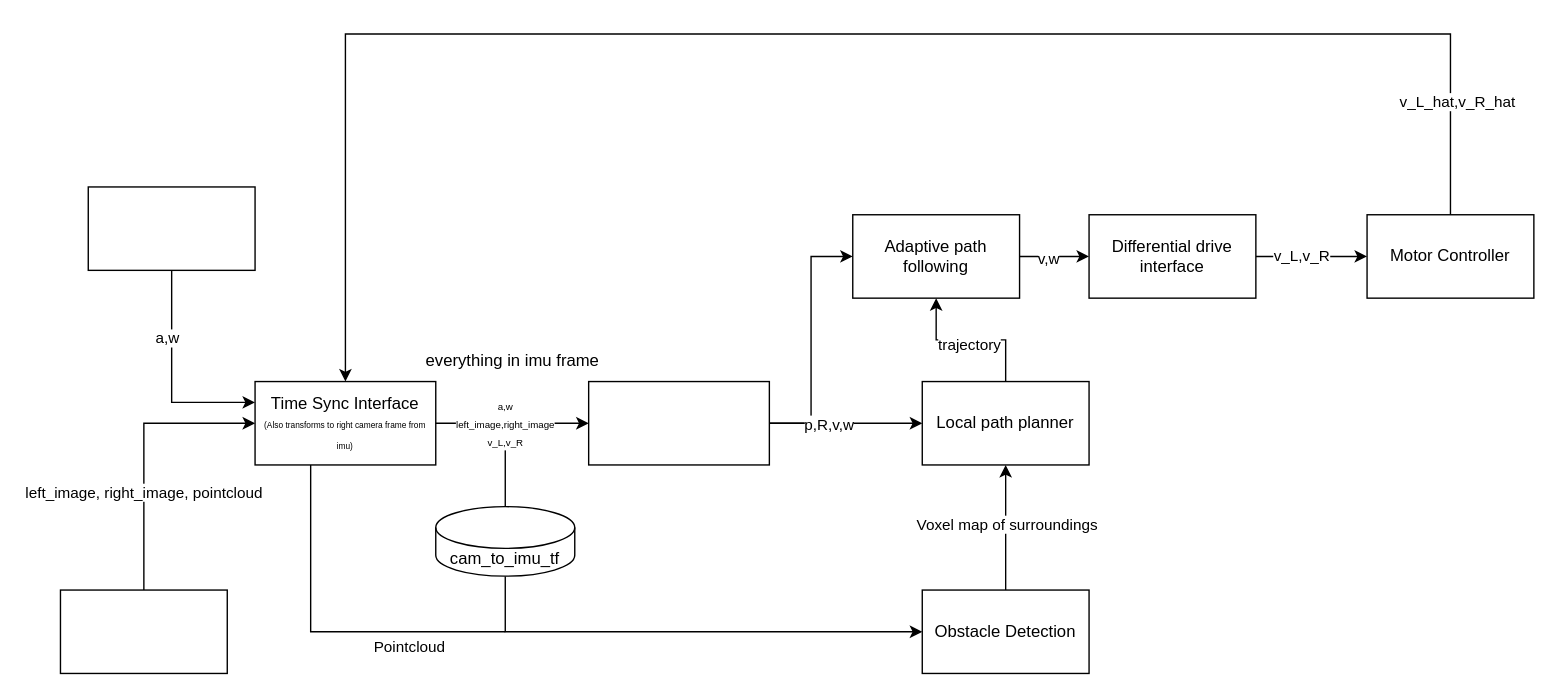
The diagram is 1558 pixels wide and 698 high, and some of its shapes have lost their labels. The shapes that lost their labels are listed below. From the top down, each one's centre as x and y in pixels, then its label:
(171,228): MPU6050
(678,422): VI O EKF
(143,631): Oak-D Lite
